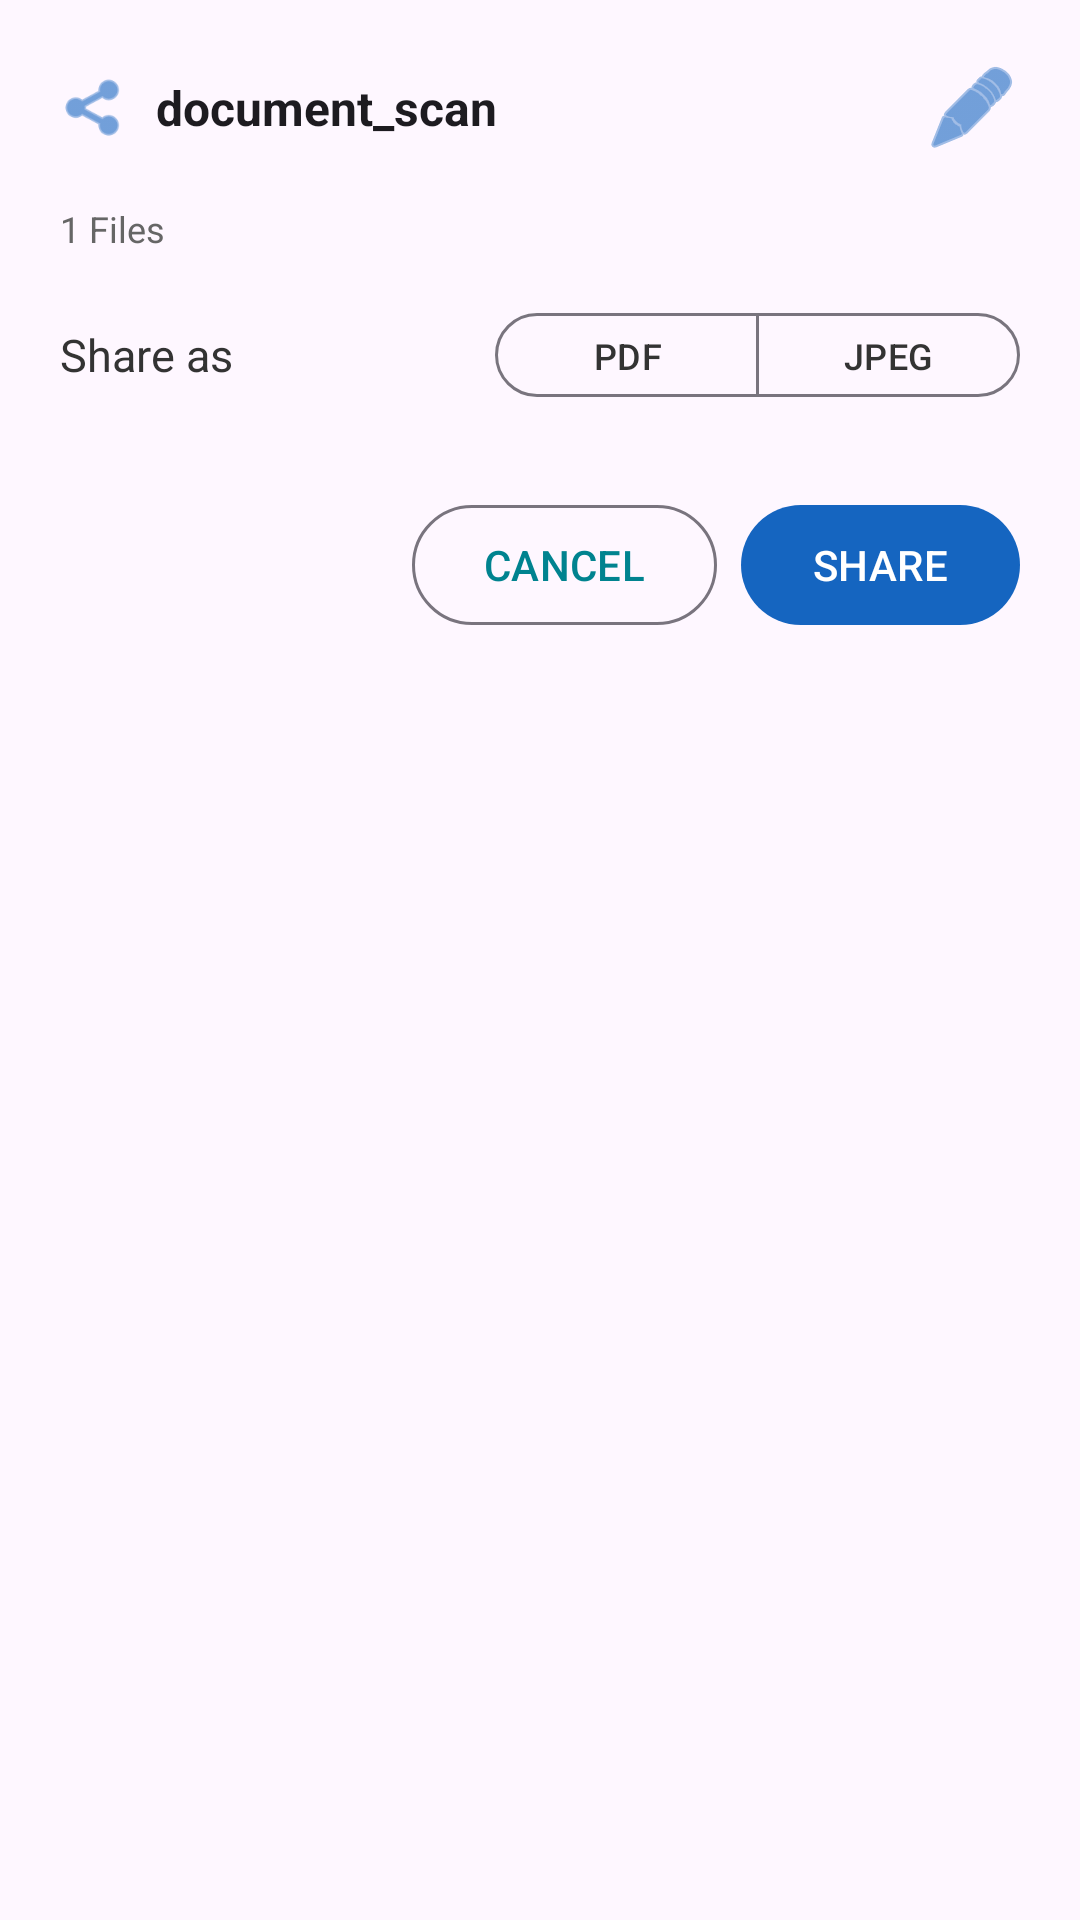

Icon click points for this 1080 x 1920 phone screenshot, format (x,y):
Edit name: (971,107)
Share: (92,107)
